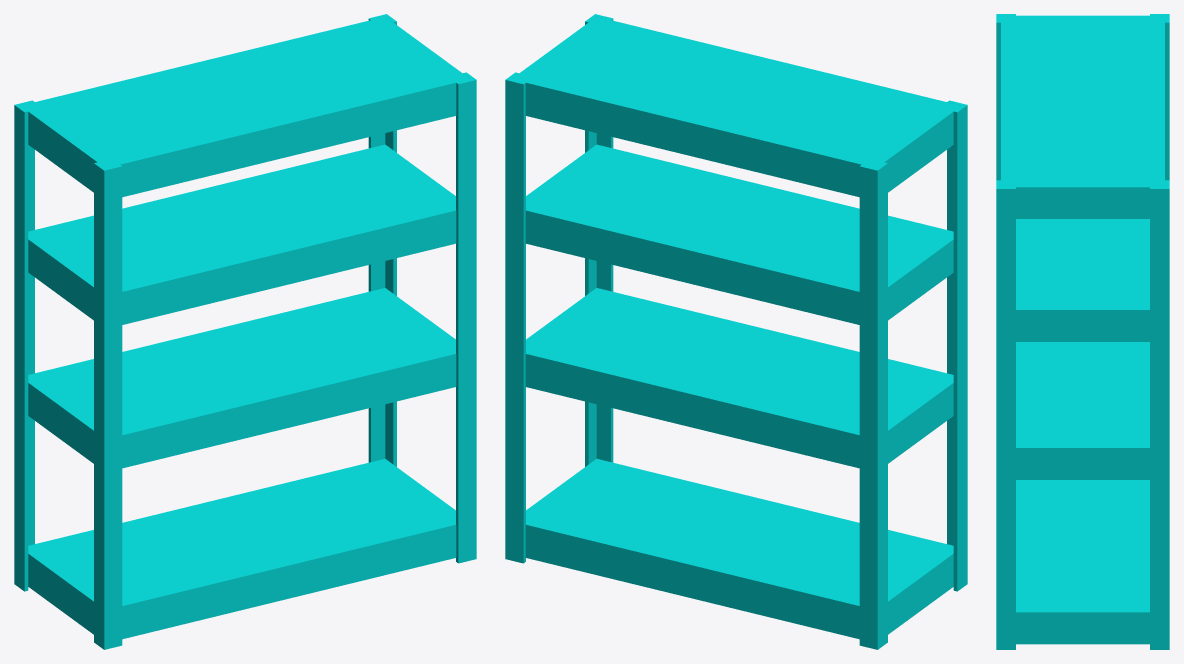
File: speedrack.fbx
The picture shows the model from 3 angles, left to right: view 1: azimuth 30°, elevation 25°; view 2: azimuth 150°, elevation 25°; view 3: azimuth 270°, elevation 25°; orthographic projection. The views are drawn at different scales.
Visible parts, largest first — view 1: speedrack; view 2: speedrack; view 3: speedrack.
Boxes of the visible parts, x1,y1,x2,y2 form: speedrack: (14, 14, 476, 649); speedrack: (505, 14, 967, 649); speedrack: (996, 14, 1169, 649).
Bounding box in the file's own units: 1.28 × 1.58 × 0.5362.
